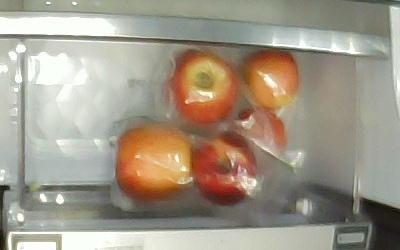apple_vinyl: (116, 124, 191, 202), (166, 49, 238, 123), (191, 132, 257, 207), (239, 51, 299, 111), (237, 107, 287, 152)
